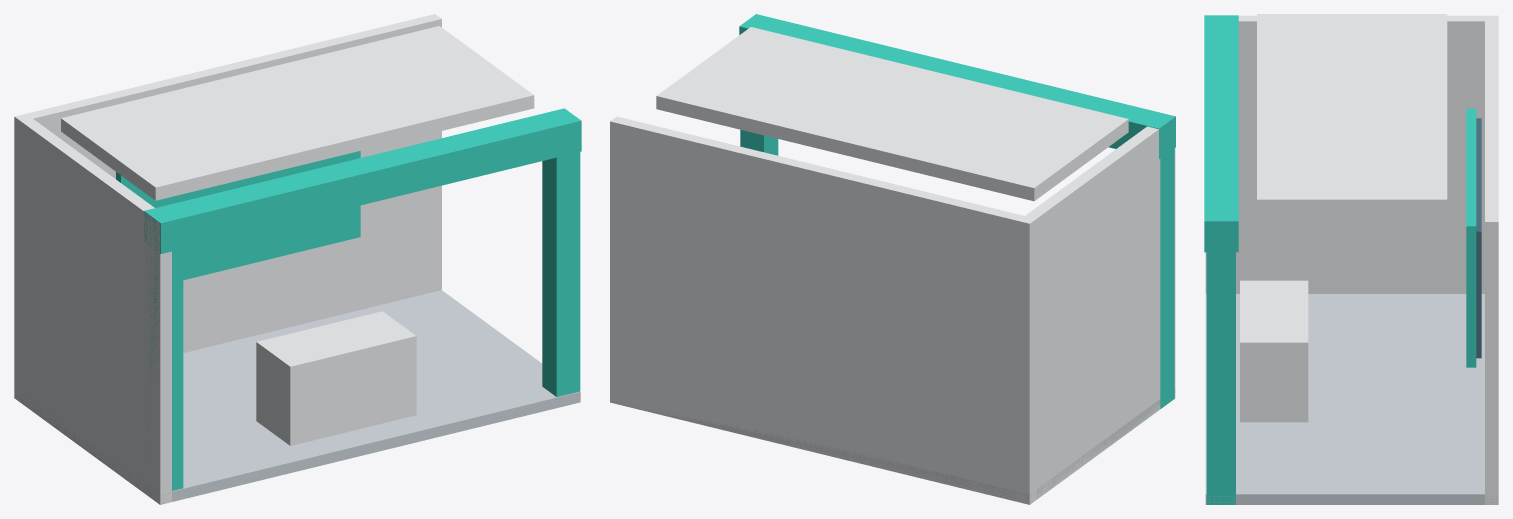
3 renders of one model, left to right at view 1: azimuth 30°, elevation 25°; view 2: azimuth 150°, elevation 25°; view 3: azimuth 270°, elevation 25°, orthographic.
Parts seen in each view (by area): view 1: Exhibition Booth Concept; view 2: Exhibition Booth Concept; view 3: Exhibition Booth Concept.
Boxes of the visible parts, bbox=[...] form: Exhibition Booth Concept: bbox=[14, 14, 581, 504]; Exhibition Booth Concept: bbox=[610, 14, 1175, 504]; Exhibition Booth Concept: bbox=[1204, 14, 1498, 504].
Size of the model in its own units: 5 by 3.34 by 3.01.
